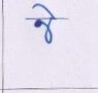i_matra: (40, 3, 57, 43)
